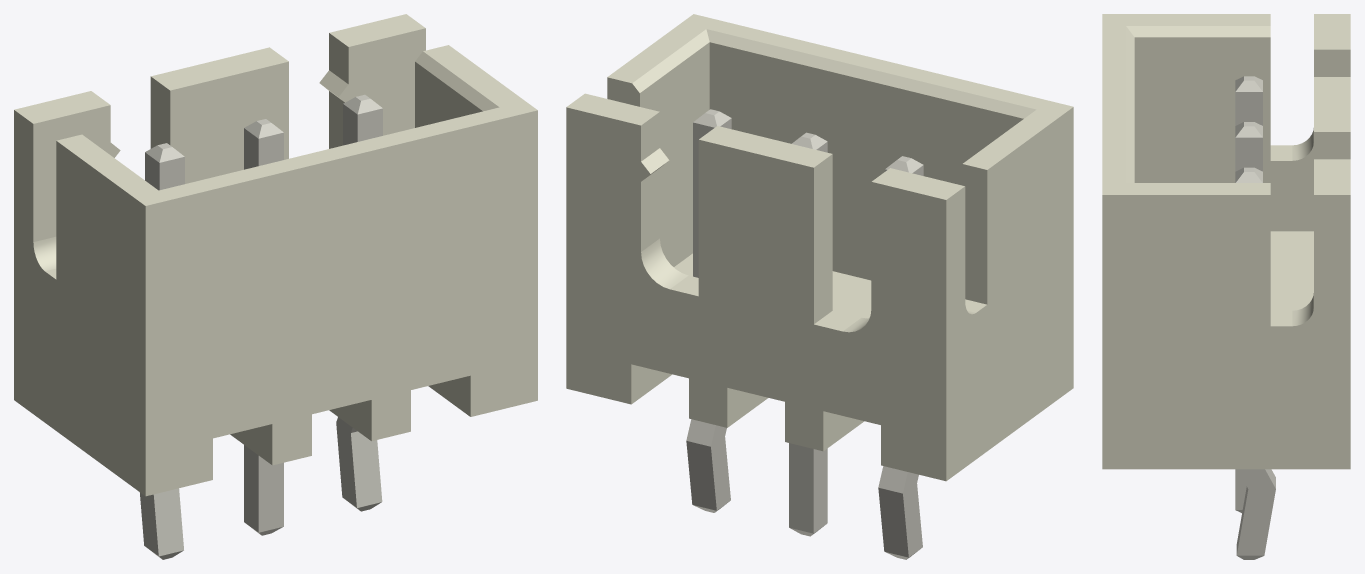
The model's file is kc-jst_xh_b3b-xh-a_1x03_p2.50mm_vertical.glb.
3 views of the same model, side by side, from view 1: azimuth 30°, elevation 25°; view 2: azimuth 150°, elevation 25°; view 3: azimuth 270°, elevation 25° (orthographic). The views are drawn at different scales.
Visible parts, largest first — view 1: 0.75_0.75_0.5833333333333334_0, 0.6666666666666666_0.6666666666666666_0.5833333333333334_0.8; view 2: 0.75_0.75_0.5833333333333334_0, 0.6666666666666666_0.6666666666666666_0.5833333333333334_0.8; view 3: 0.75_0.75_0.5833333333333334_0, 0.6666666666666666_0.6666666666666666_0.5833333333333334_0.8.
Part boxes in pixels (x1,y1,x2,y2): 0.75_0.75_0.5833333333333334_0: (14,14,537,496); 0.6666666666666666_0.6666666666666666_0.5833333333333334_0.8: (140,94,382,559); 0.75_0.75_0.5833333333333334_0: (566,14,1073,481); 0.6666666666666666_0.6666666666666666_0.5833333333333334_0.8: (686,109,923,559); 0.75_0.75_0.5833333333333334_0: (1102,14,1350,469); 0.6666666666666666_0.6666666666666666_0.5833333333333334_0.8: (1235,76,1275,559).
Size of the model in its own units: 0.99 by 1.04 by 0.575.
